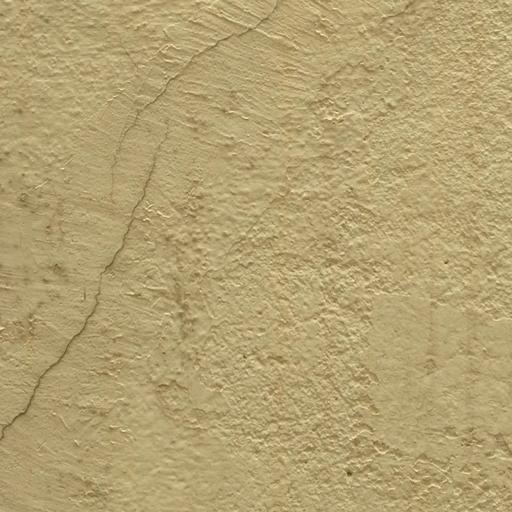minor_crack: (0, 119, 182, 454), (101, 0, 309, 197)
